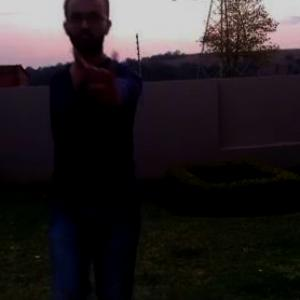takeoff-hand: (72, 43, 128, 106)
